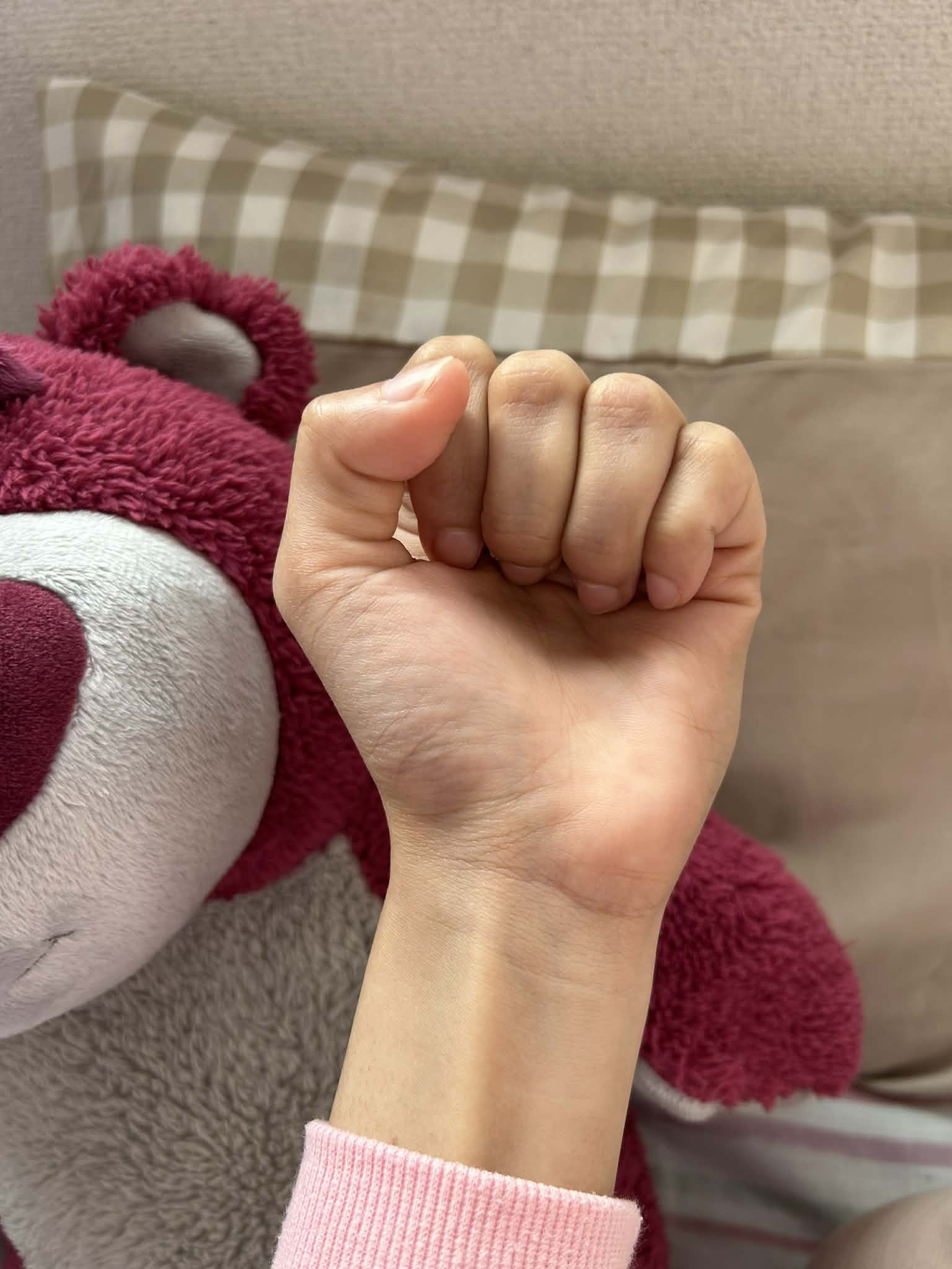right_closed_palm: (331, 373, 716, 859)
